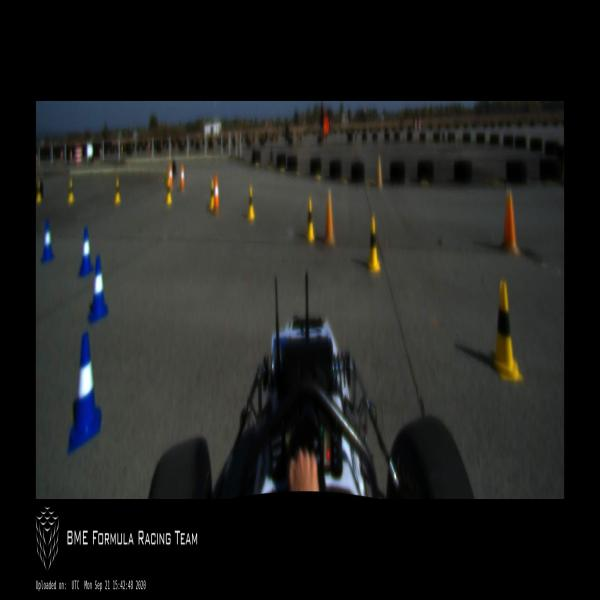blue_cone: (68, 334, 102, 454), (88, 256, 108, 325), (79, 228, 94, 277), (40, 221, 55, 264)
orange_cone: (377, 156, 383, 187), (215, 175, 220, 210), (168, 162, 173, 188), (180, 166, 185, 190)
unknown_cone: (502, 191, 519, 255), (325, 187, 335, 245)
yellow_cone: (487, 280, 523, 381), (367, 218, 380, 274), (305, 200, 314, 243), (248, 187, 255, 221), (166, 179, 172, 205), (114, 179, 120, 205), (209, 180, 214, 211), (68, 180, 74, 204), (36, 182, 42, 205)
